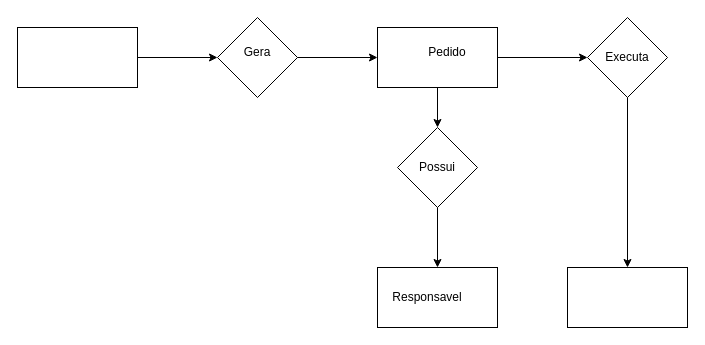
The diagram is 705 pixels wide and 345 high, and some of its shapes have lost their labels. The shapes that lost their labels are listed below. From the top down, each one's box as (x1, y1, x2, y2) in pixels, then its label:
(16, 26, 138, 88): Cliente
(566, 266, 688, 328): Ordem de Serviço
